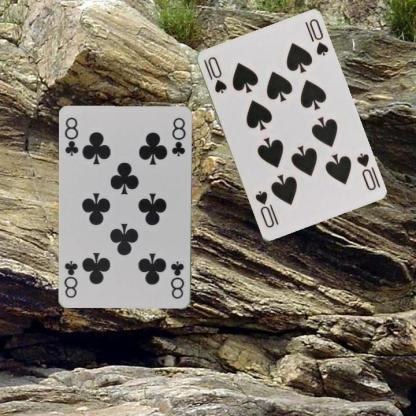10s: (200, 54, 228, 94), (354, 150, 377, 192)
8c: (62, 115, 80, 157), (168, 259, 186, 300)
